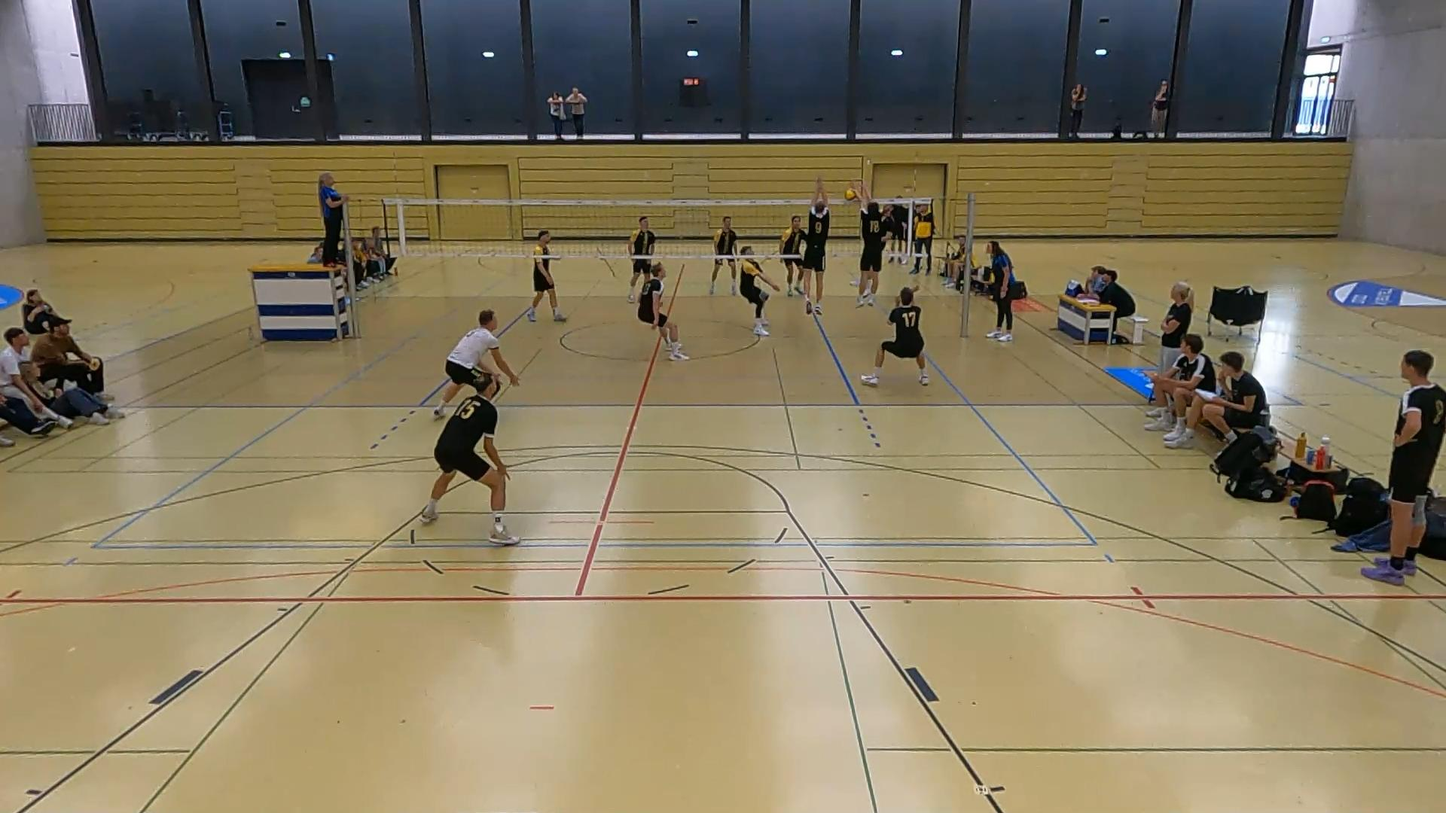Block: (847, 176, 888, 312), (801, 176, 831, 320)
Player: (420, 373, 518, 545), (433, 309, 519, 418), (861, 287, 928, 385), (638, 261, 688, 359), (526, 230, 566, 321), (740, 247, 780, 336), (627, 217, 655, 302), (709, 216, 737, 294), (779, 216, 804, 296)
ball: (840, 183, 859, 206)
